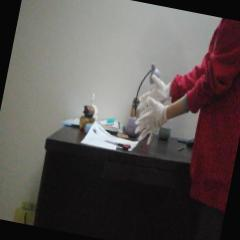gloved: (131, 96, 168, 146), (138, 74, 172, 108)
